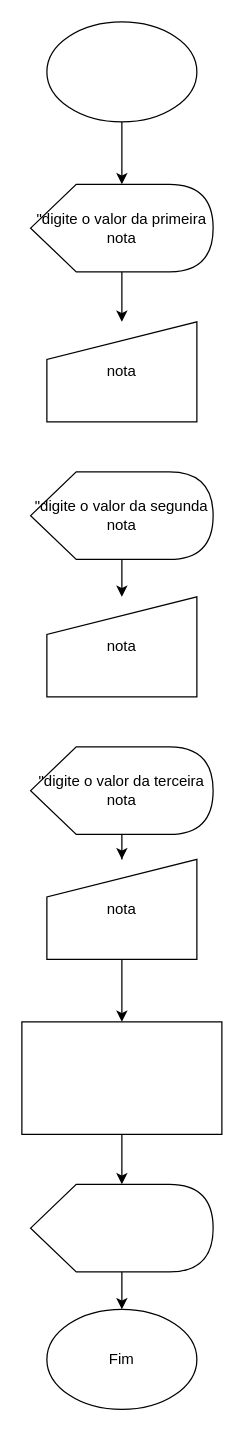
The diagram is 244 pixels wide and 1431 high, and some of its shapes have lost their labels. Each missing label, with the centre of its shape:
"o valor final da média é igual a:", valorFinal: pixel 121 1227
inicio: pixel 121 71
valorFinal<- nota + nota+ nota /3: pixel 121 1077
